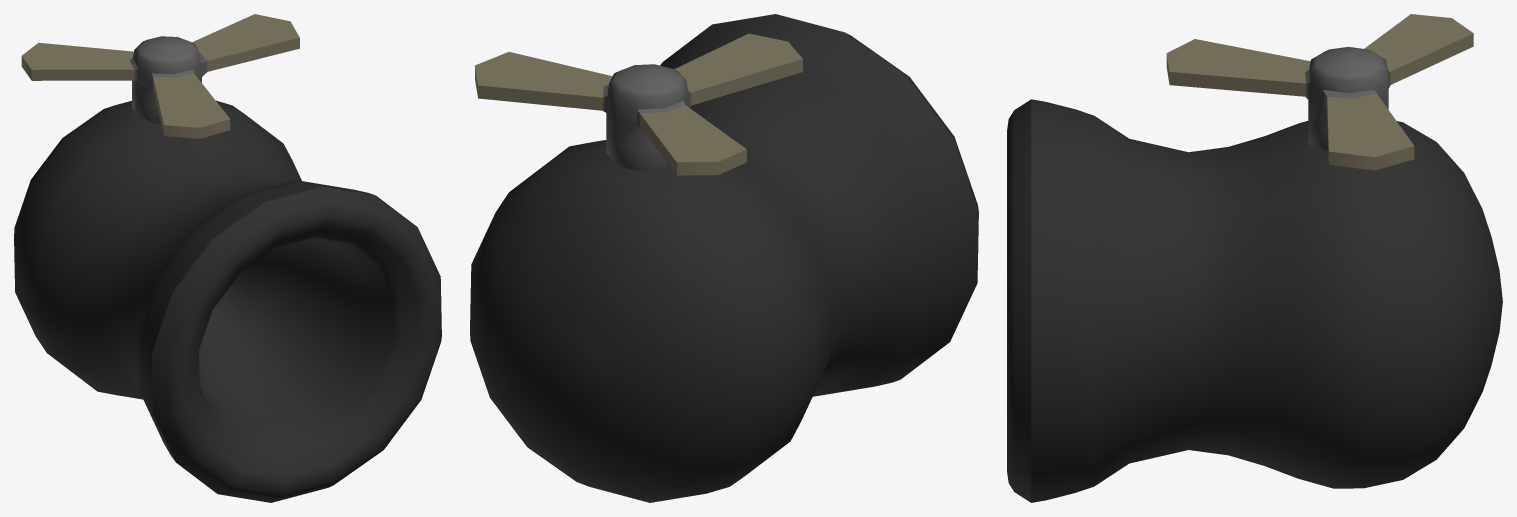
The model's file is cannono.fbx.
3 views of the same model, side by side, from view 1: azimuth 30°, elevation 25°; view 2: azimuth 150°, elevation 25°; view 3: azimuth 270°, elevation 25° (orthographic). The views are drawn at different scales.
Parts seen in each view (by area): view 1: pCylinder1, pCylinder2; view 2: pCylinder1, pCylinder2; view 3: pCylinder1, pCylinder2.
Part boxes in pixels (x1,y1,x2,y2): pCylinder1: [14, 100, 441, 502]; pCylinder2: [21, 14, 299, 138]; pCylinder1: [470, 14, 978, 502]; pCylinder2: [475, 33, 802, 175]; pCylinder1: [1007, 99, 1502, 502]; pCylinder2: [1166, 14, 1473, 170].
Bounding box in the file's own units: 2.82 × 3.32 × 3.46.
